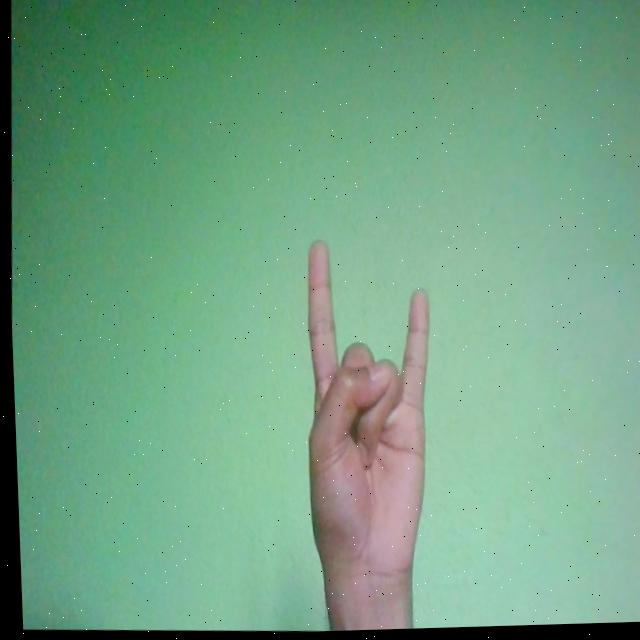Rock On: (292, 237, 439, 599)
